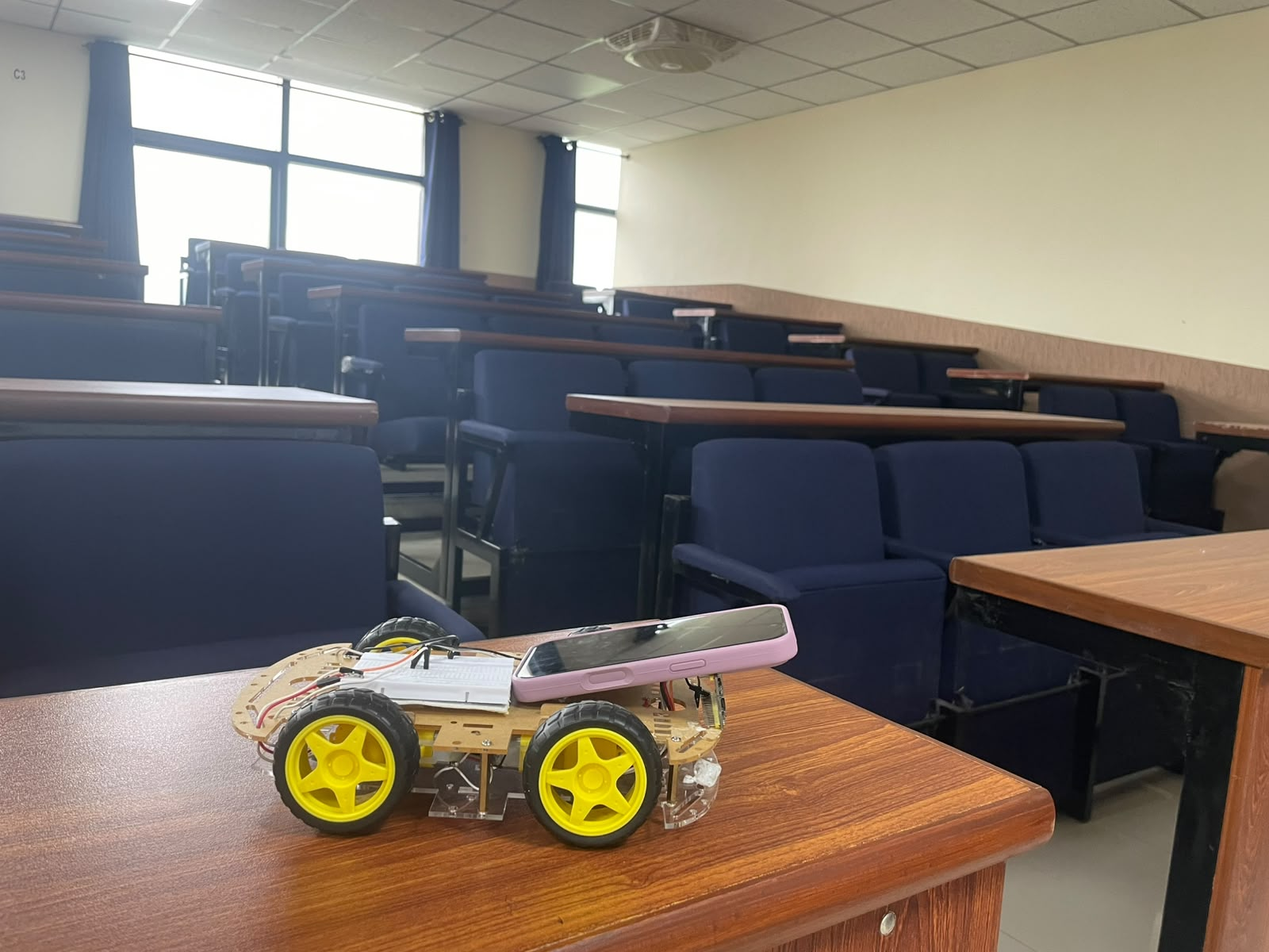Rover: (231, 604, 796, 847)
